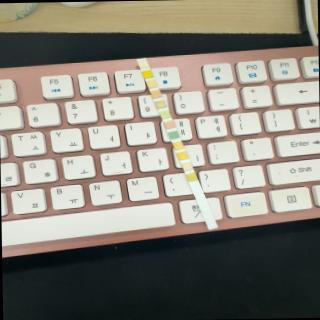mark: (163, 120, 174, 128), (142, 70, 152, 78), (156, 100, 166, 108), (172, 141, 182, 149), (150, 90, 161, 97), (138, 61, 148, 68), (146, 80, 156, 87), (160, 111, 170, 118), (178, 152, 188, 159), (182, 163, 192, 170), (187, 173, 197, 180), (168, 132, 178, 138)
